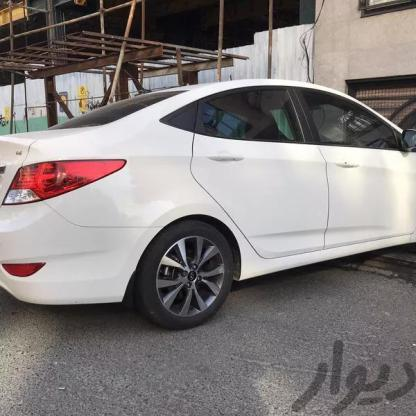Car: (0, 75, 416, 332)
